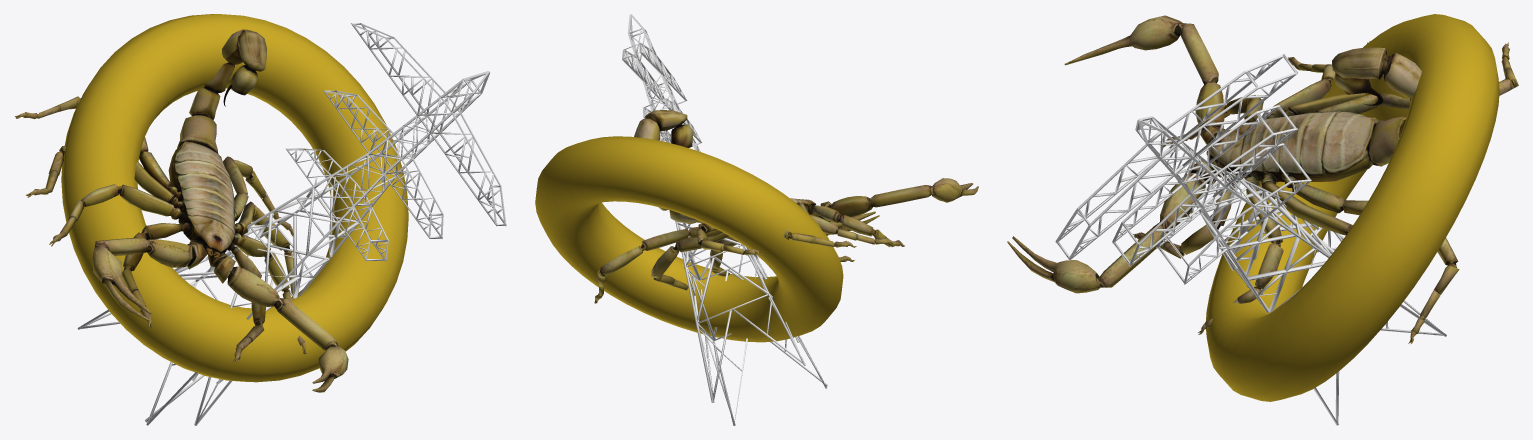
3 renders of one model, left to right at view 1: azimuth 30°, elevation 25°; view 2: azimuth 150°, elevation 25°; view 3: azimuth 270°, elevation 25°, orthographic. The views are drawn at different scales.
Visible parts, largest first — view 1: GLB_03; view 2: GLB_03; view 3: GLB_03.
Part boxes in pixels (box(x1,y1,x2,y2)): GLB_03: box(15, 14, 506, 425); GLB_03: box(535, 14, 978, 425); GLB_03: box(1007, 14, 1518, 425).
Size of the model in its own units: 0.5025 by 0.4771 by 0.497.
3 materials, 1 textured.
